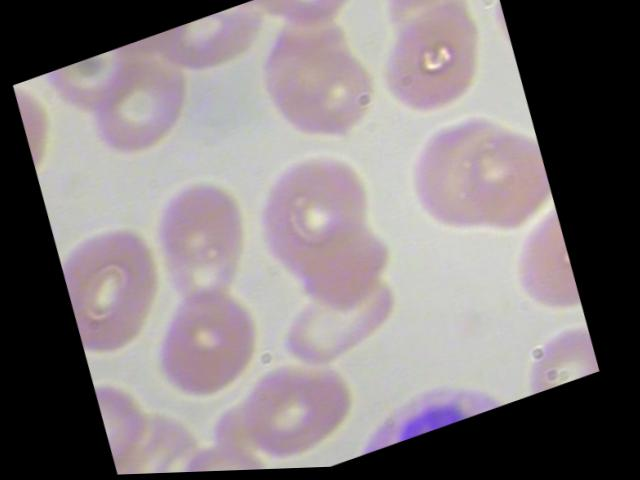Red Blood Cells: (235, 131, 403, 304), (128, 166, 267, 319), (54, 213, 187, 364), (227, 345, 380, 472), (361, 0, 503, 132), (142, 276, 277, 412), (429, 116, 561, 250), (267, 265, 414, 379), (78, 44, 203, 168), (511, 321, 606, 402), (168, 429, 287, 473), (261, 0, 369, 42), (102, 24, 194, 72)
White Blood Cells: (337, 360, 537, 464)
